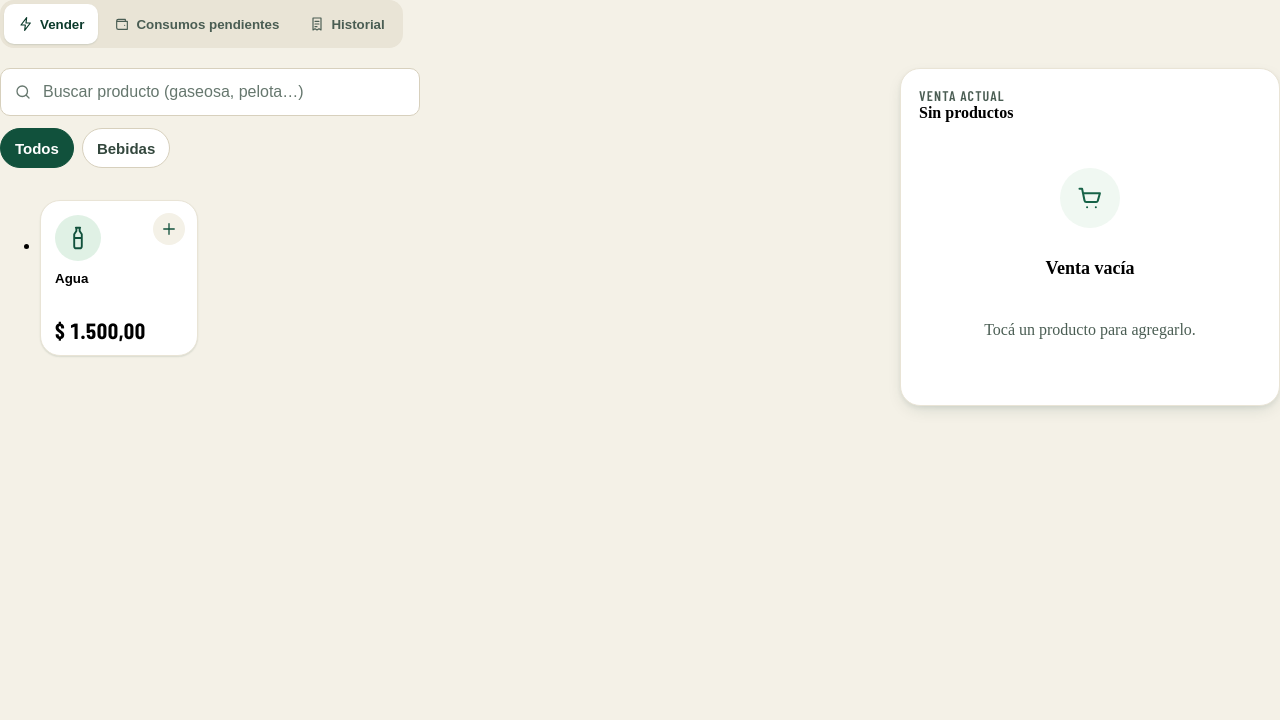
Test: CanteenPanel · venta idempotente (SEC-05) › respuesta perdida pero la venta SÍ se confirmó: la recupera por su clave y no vuelve a enviarla
Click the button "Agua $ 1.500,00" at (119, 278), box [40,200,198,356]
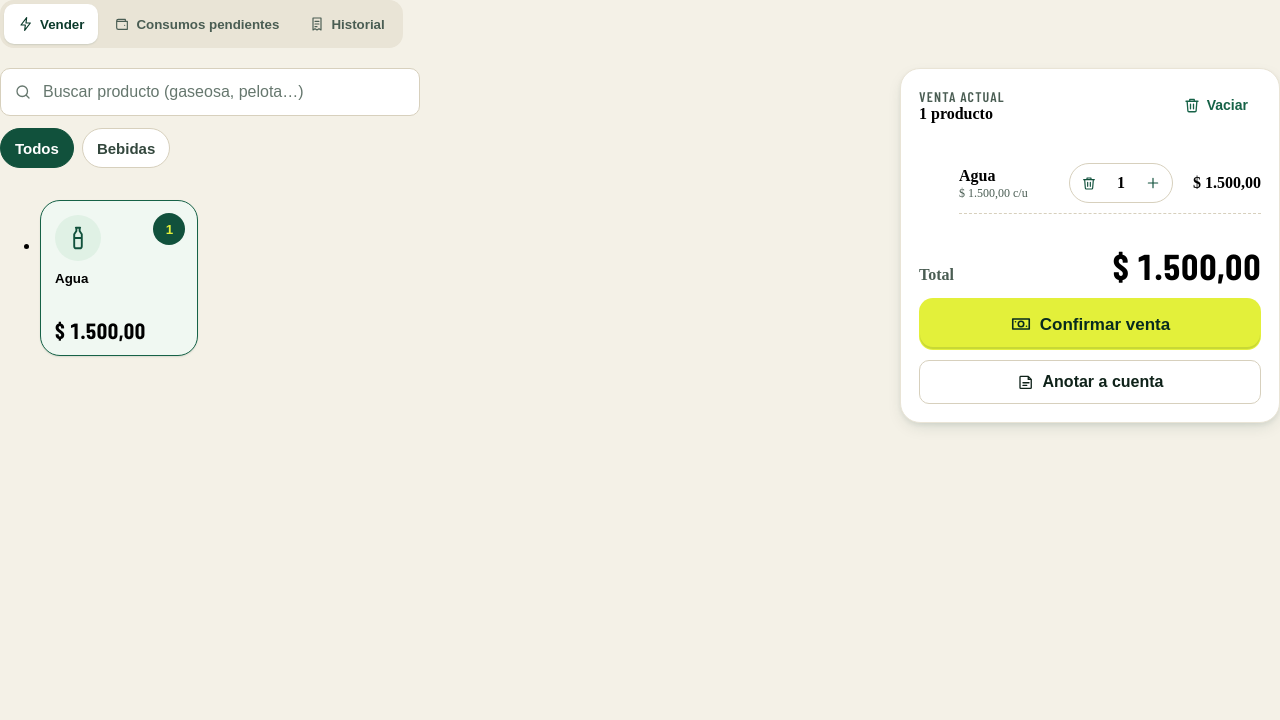
Click the button "Confirmar venta" at (1090, 324), box [919,298,1261,350]
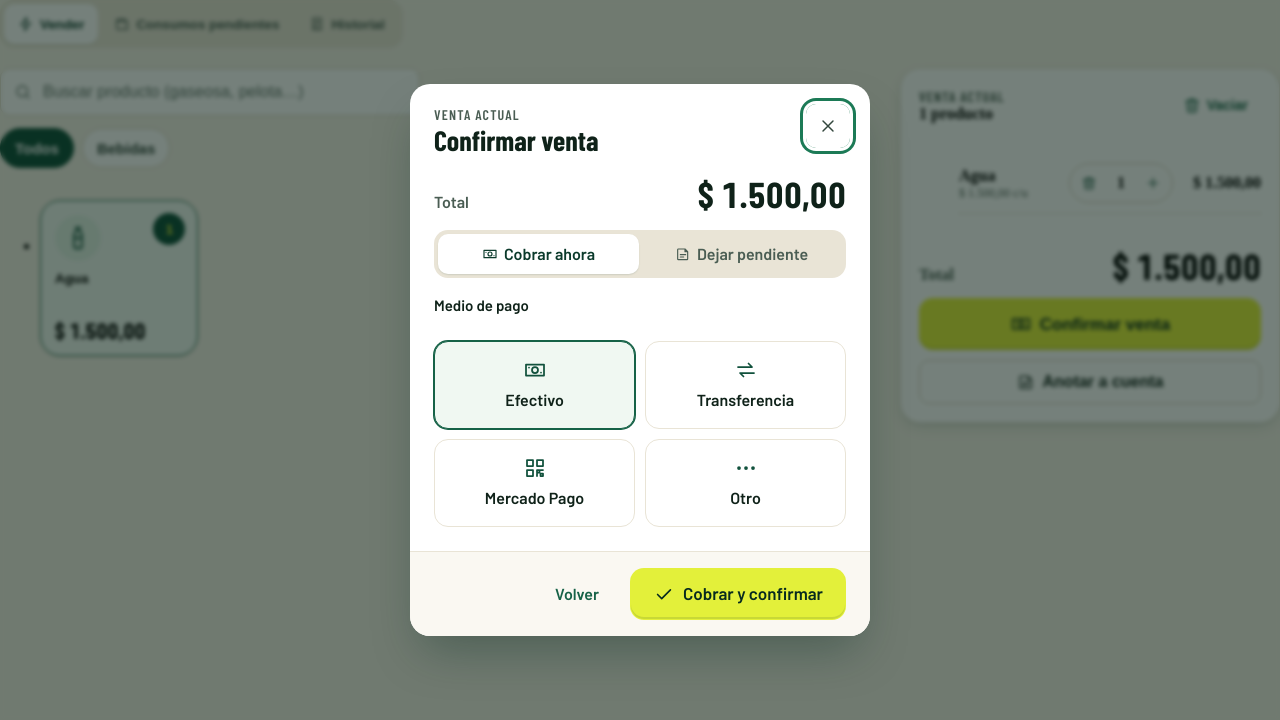
Click the button "Cobrar y confirmar" at (738, 594), box [630,568,846,620]
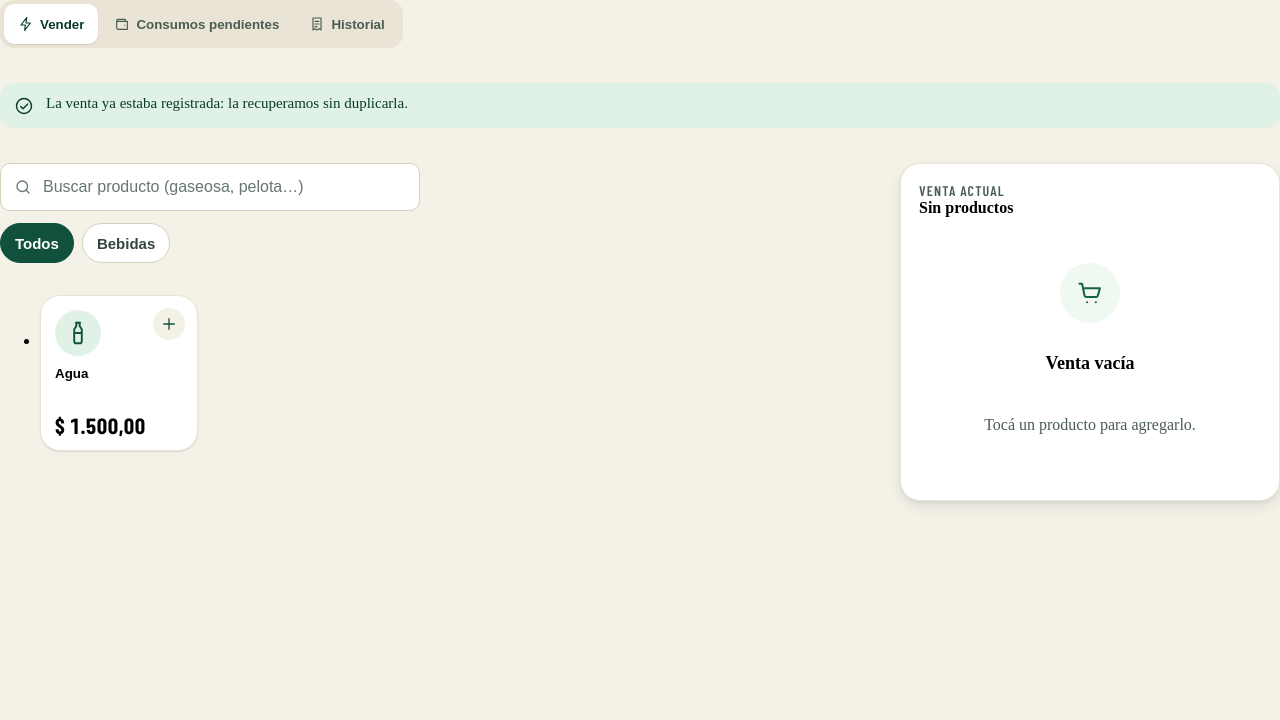
Expected: the text "La venta ya estaba registrada: la recuperamos sin duplicarla." is shown, [46,95,408,112]
Expected: the text "Tocá un producto para agregarlo." is shown, [984,416,1196,434]
